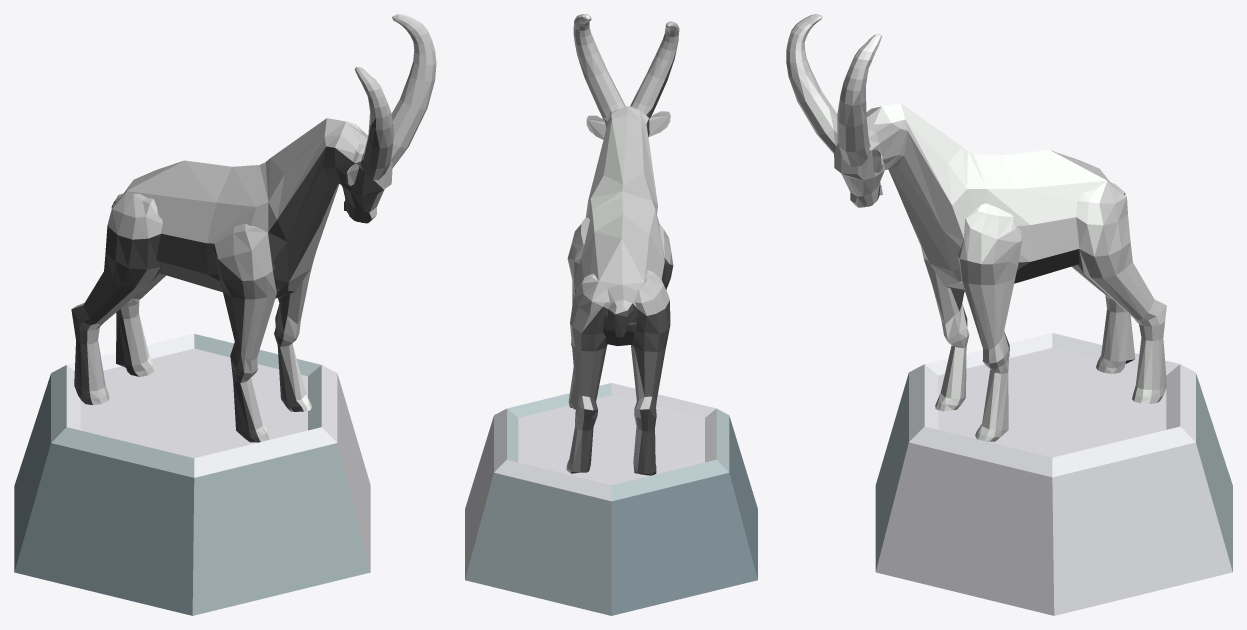
Rendered from guardian_statue.glb.
3 views of the same model, side by side, from view 1: azimuth 30°, elevation 25°; view 2: azimuth 150°, elevation 25°; view 3: azimuth 270°, elevation 25° (orthographic). The views are drawn at different scales.
Parts seen in each view (by area): view 1: group2144756075; view 2: group2144756075; view 3: group2144756075.
Part boxes in pixels (x1,y1,x2,y2): group2144756075: [14, 14, 436, 615]; group2144756075: [465, 14, 757, 615]; group2144756075: [786, 14, 1232, 615].
Size of the model in its own units: 2.03 by 3 by 2.2.
1 material, 1 textured.
